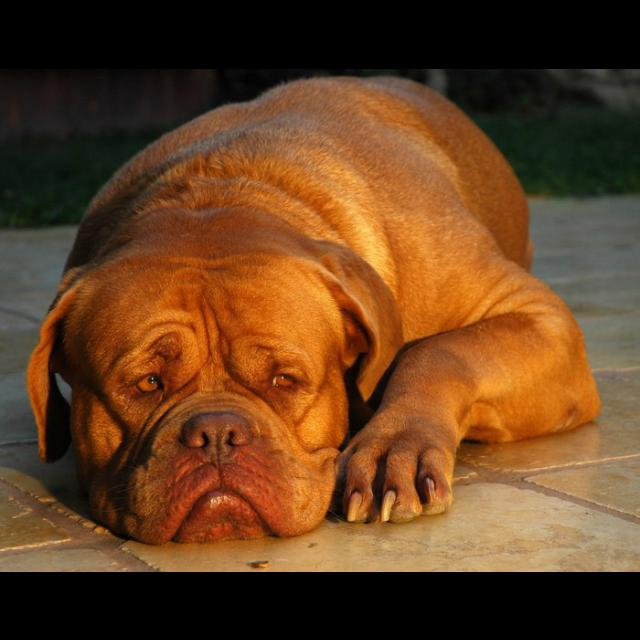dogue_de_bordeaux: (27, 74, 603, 546)
